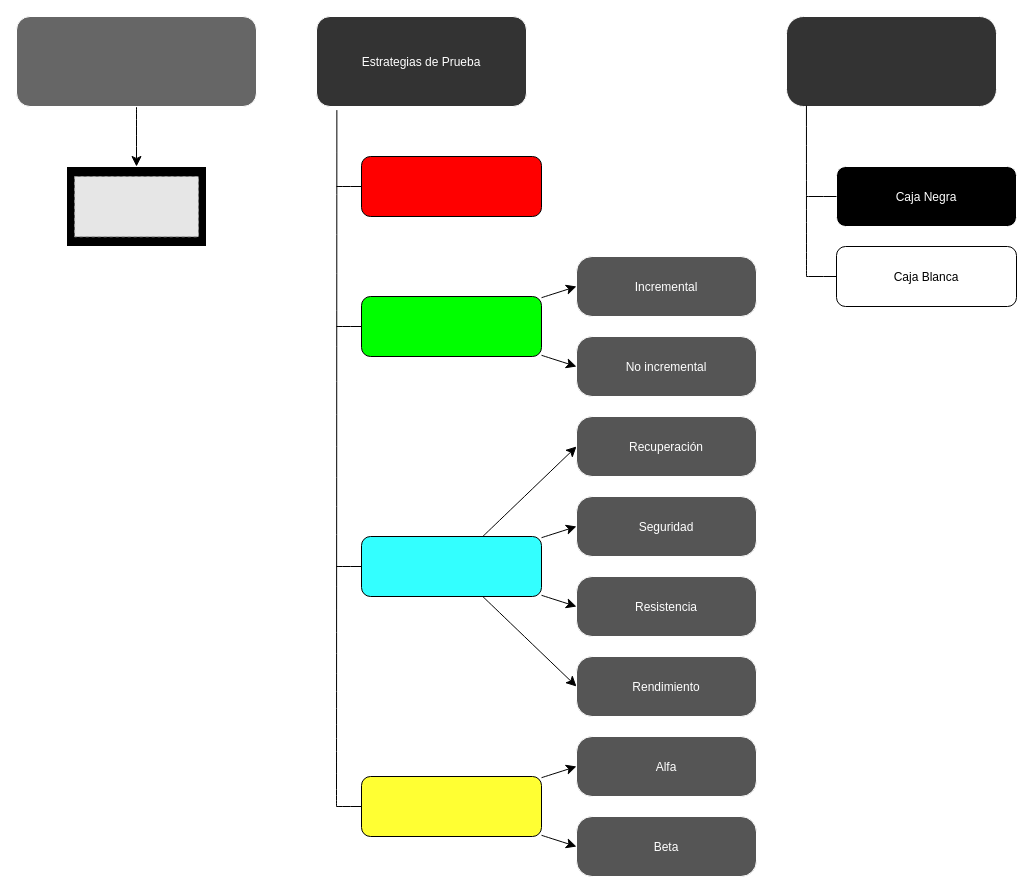
The diagram is 1033 pixels wide and 893 high, and some of its shapes have lost their labels. Grey dashed boxes stand in for pictures. The centre of each missing label's shape, as x and y in pixels:
"Herramientas de Automatización" belongs at (136,61).
"PRUEBAS DE ACEPTACIÓN" belongs at (451,806).
"PRUEBAS DE INTGRACIÓN" belongs at (451,326).
"PRUEBAS DE SISTEMA" belongs at (451,566).
"PRUEBAS UNITARIAS" belongs at (451,186).
"Técnicas de Prueba" belongs at (891,61).
